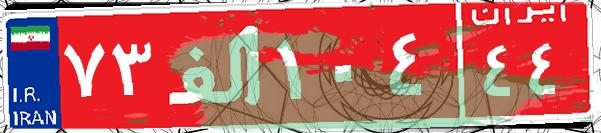0: (330, 28, 385, 110)
1: (273, 28, 330, 110)
3: (110, 28, 158, 105)
4: (385, 28, 445, 110), (475, 38, 525, 113), (525, 38, 570, 115)
7: (57, 26, 110, 107)
الف: (158, 15, 273, 115)
